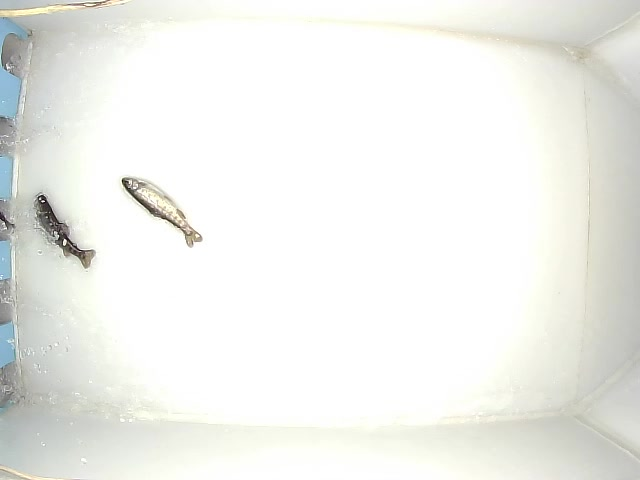fish: (120, 175, 204, 250), (32, 192, 97, 270)
